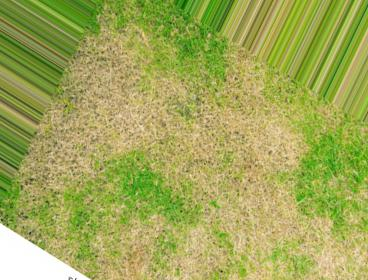patch: (27, 131, 135, 195), (202, 118, 289, 197), (93, 48, 162, 128), (214, 210, 302, 271)
